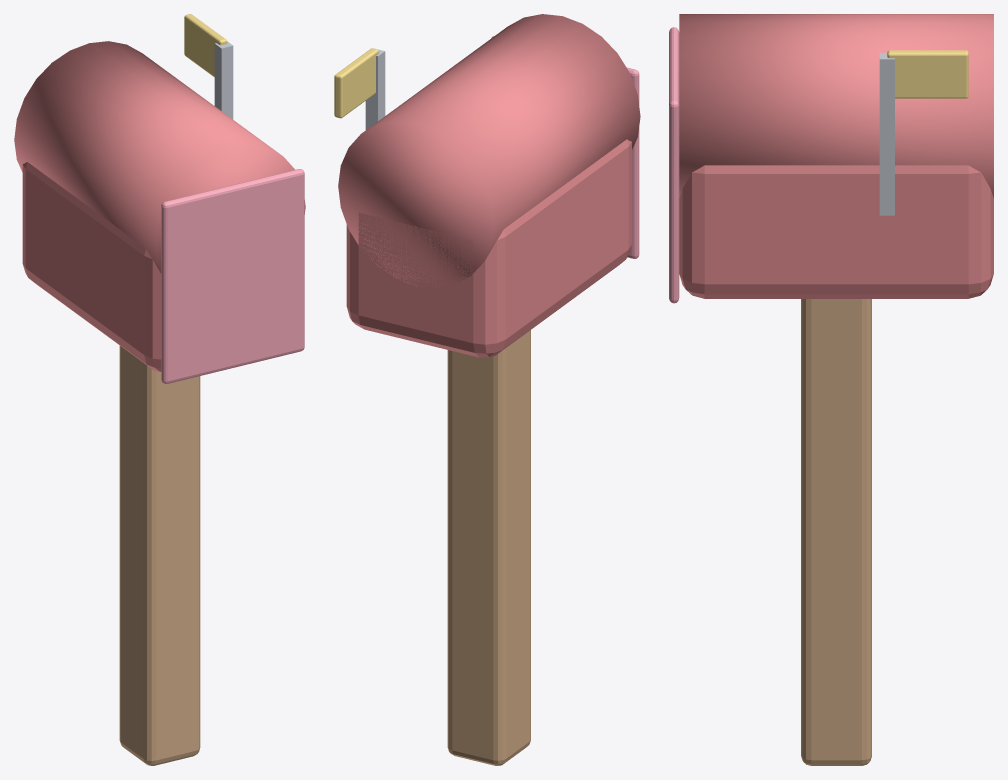
File: postbox.glb
The picture shows the model from 3 angles, left to right: view 1: azimuth 30°, elevation 25°; view 2: azimuth 150°, elevation 25°; view 3: azimuth 270°, elevation 25°; orthographic projection. The views are drawn at different scales.
Visible parts, largest first — view 1: postbox; view 2: postbox; view 3: postbox.
Boxes of the visible parts, <box> form: postbox: <box>14,14,305,765</box>; postbox: <box>334,14,640,765</box>; postbox: <box>669,14,993,765</box>.
Bounding box in the file's own units: 0.425 × 1.63 × 0.64.
